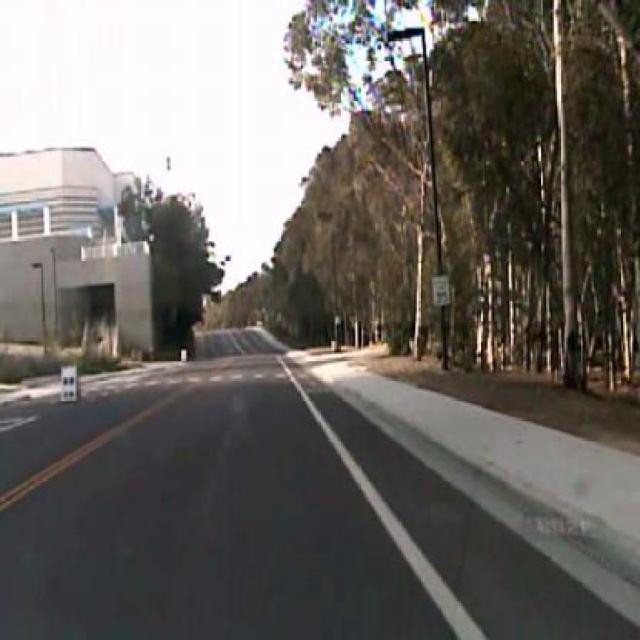speedLimit35: (431, 274, 451, 306)
